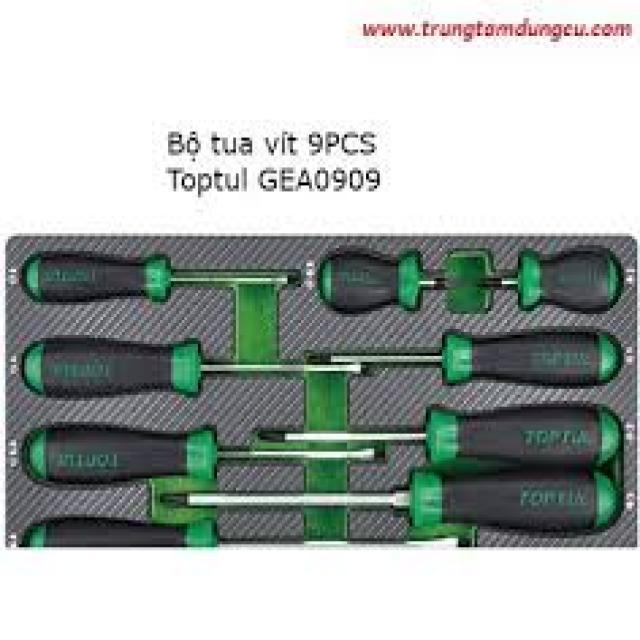screwdriver: (156, 465, 628, 537), (253, 398, 622, 472), (22, 416, 390, 490), (18, 332, 374, 395), (300, 326, 626, 389), (16, 507, 472, 552), (20, 248, 302, 308), (472, 244, 626, 318), (316, 246, 470, 318)
